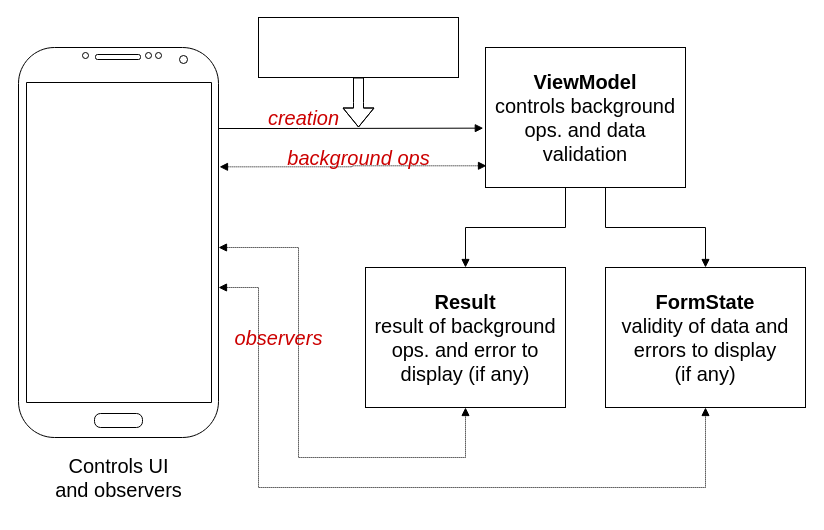
Image size: 824x530. Some labels were removed from this diagram. The box of each missing label's shape, as (x1, y1, x2, y2) in pixels:
Activity / Fragment: (18, 46, 218, 438)
ViewModelFactory: (258, 16, 458, 78)
